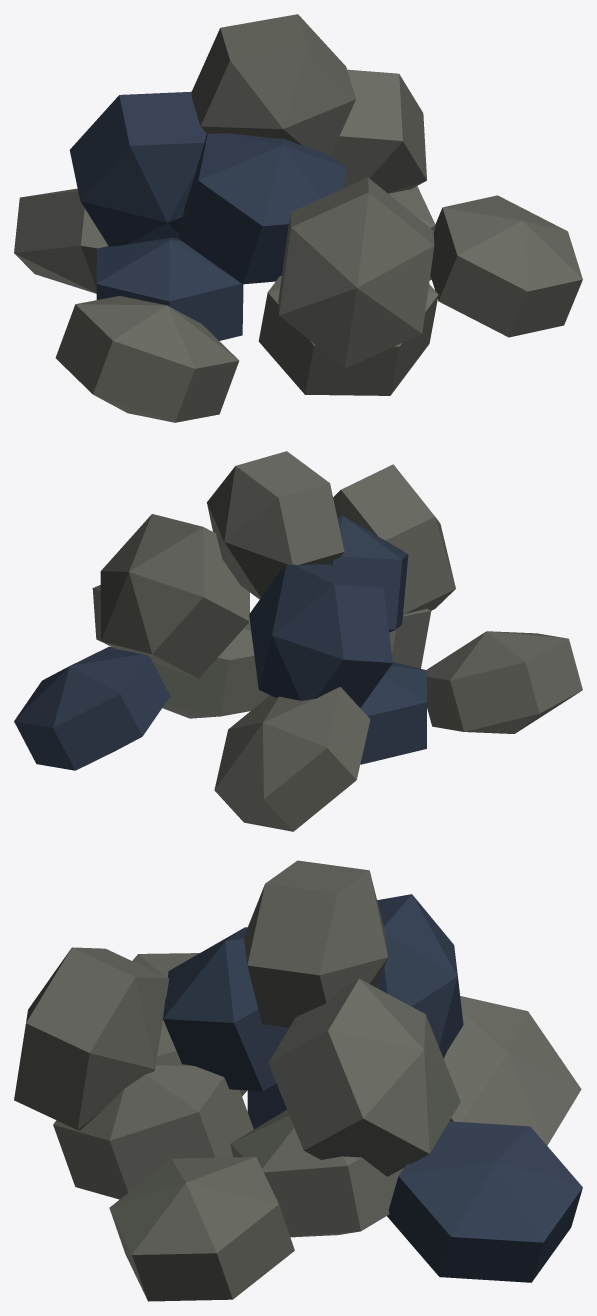
File: ore-pile.glb
3 renders of one model, top to bottom at view 1: azimuth 30°, elevation 25°; view 2: azimuth 150°, elevation 25°; view 3: azimuth 270°, elevation 25°, orthographic. The views are drawn at different scales.
Visible parts, largest first — view 1: ore_pile; view 2: ore_pile; view 3: ore_pile.
Boxes of the visible parts, x1,y1,x2,y2 form: ore_pile: [14, 14, 582, 422]; ore_pile: [14, 451, 582, 831]; ore_pile: [14, 860, 582, 1301].
Bounding box in the file's own units: 0.6514 × 0.3813 × 0.5836.
